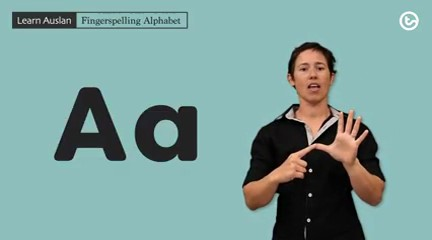A: (270, 107, 369, 182)
